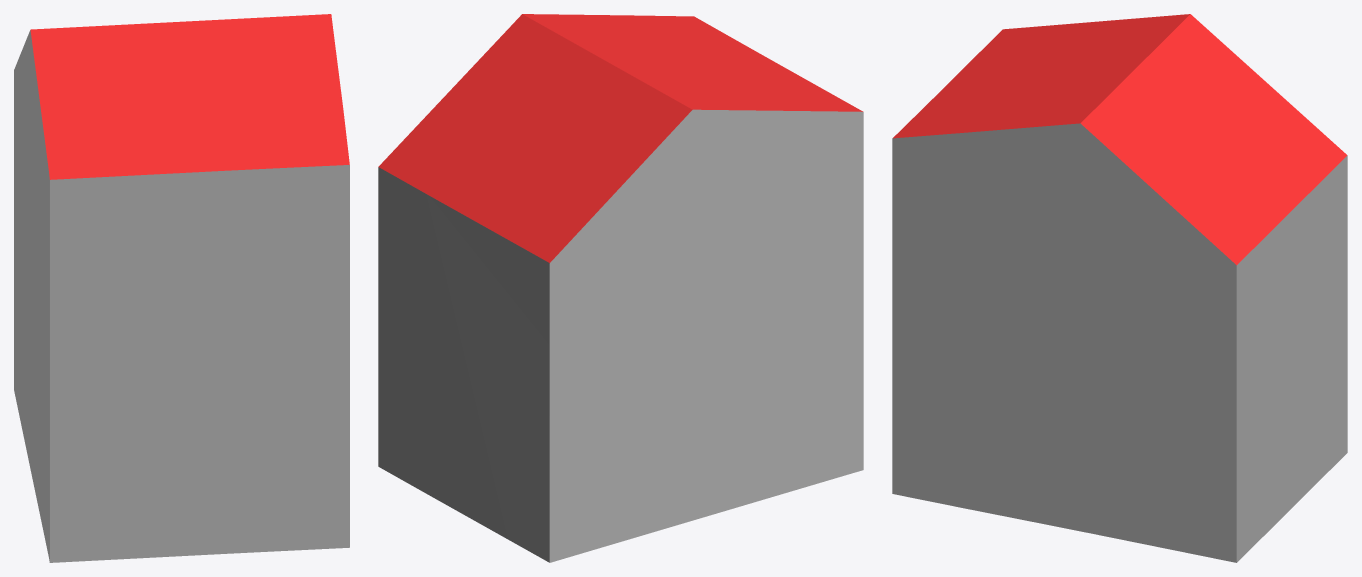
Rendered from DEBY_LOD2_4907194.dae.
3 renders of one model, left to right at view 1: azimuth 30°, elevation 25°; view 2: azimuth 150°, elevation 25°; view 3: azimuth 270°, elevation 25°, orthographic. The views are drawn at different scales.
Bounding box in the file's own units: 18.82 × 20.33 × 20.11.
